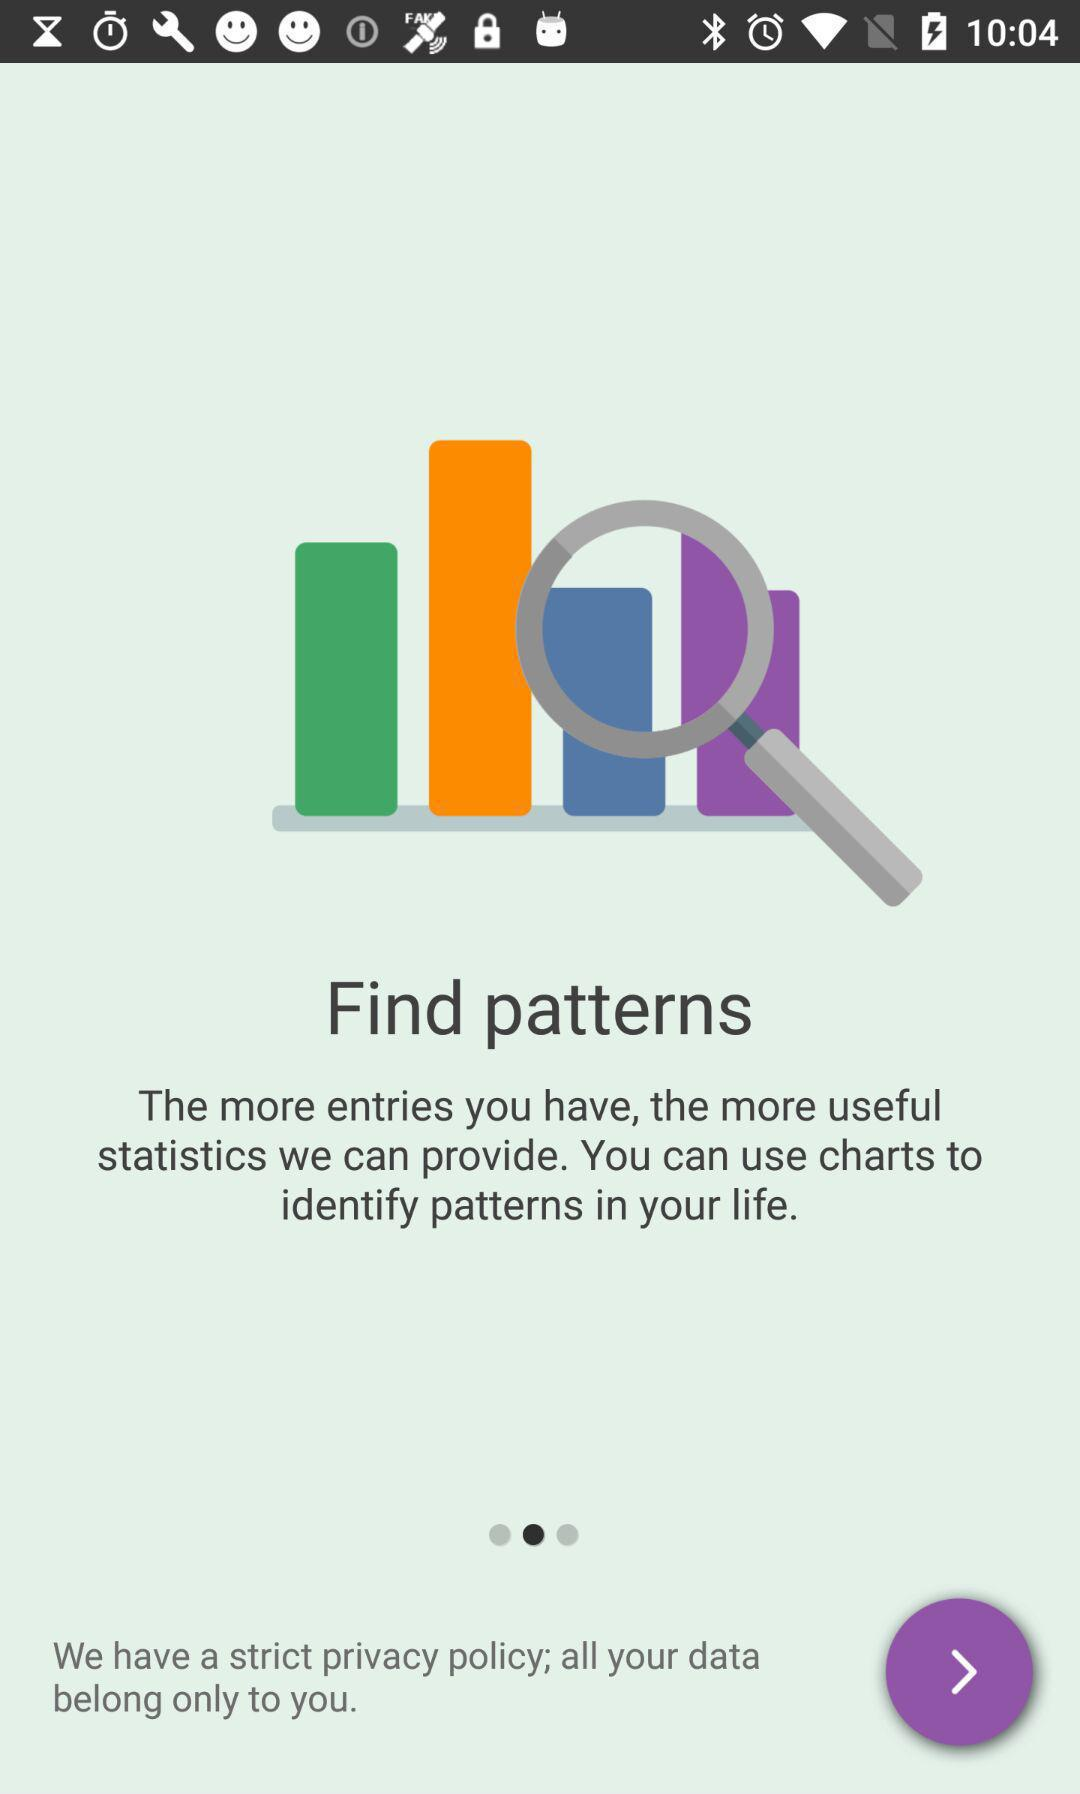Icon: (885, 1598, 1034, 1748)
Image: (270, 440, 926, 909)
PageIndicator: (488, 1522, 582, 1548)
Text: (97, 1085, 983, 1231), (53, 1639, 760, 1721), (331, 978, 753, 1051)
UpperTaskBar: (1, 1, 1080, 64)
